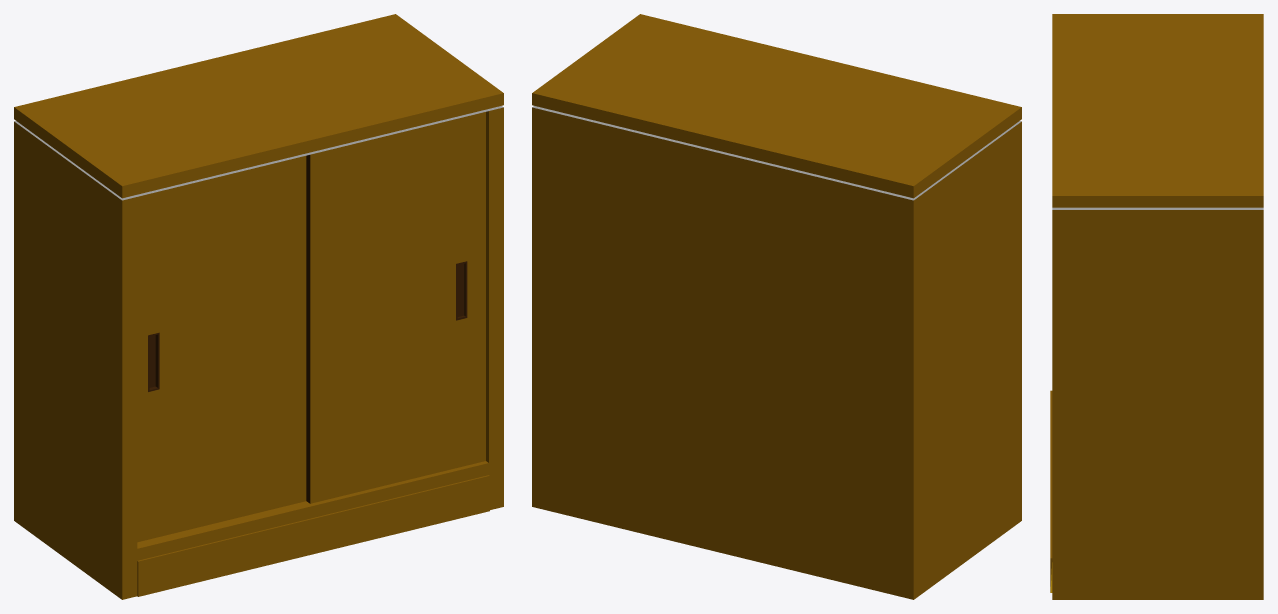
File: cupboard_01.glb
The picture shows the model from 3 angles, left to right: view 1: azimuth 30°, elevation 25°; view 2: azimuth 150°, elevation 25°; view 3: azimuth 270°, elevation 25°; orthographic projection. The views are drawn at different scales.
Parts seen in each view (by area): view 1: Cube; view 2: Cube; view 3: Cube.
Part boxes in pixels (bbox=[...]): Cube: bbox=[14, 14, 503, 599]; Cube: bbox=[532, 14, 1021, 599]; Cube: bbox=[1050, 14, 1263, 599].
Bounding box in the file's own units: 0.8999 × 0.9322 × 0.4453.
1 material, 1 textured.
